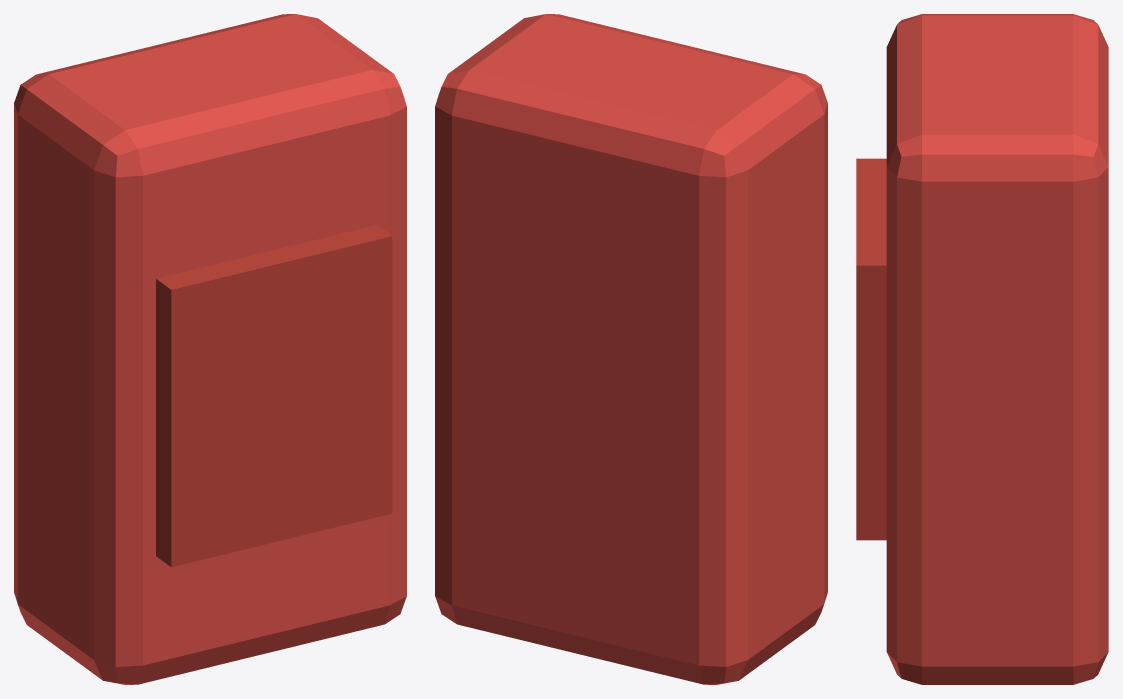
File: RockClimbing_Backpack.fbx
3 renders of one model, left to right at view 1: azimuth 30°, elevation 25°; view 2: azimuth 150°, elevation 25°; view 3: azimuth 270°, elevation 25°, orthographic.
Parts seen in each view (by area): view 1: Backpack; view 2: Backpack; view 3: Backpack.
Boxes of the visible parts, x1,y1,x2,y2 form: Backpack: (14, 14, 406, 684); Backpack: (435, 14, 827, 684); Backpack: (856, 14, 1108, 684).
Bounding box in the file's own units: 0.35 × 0.6 × 0.25.
